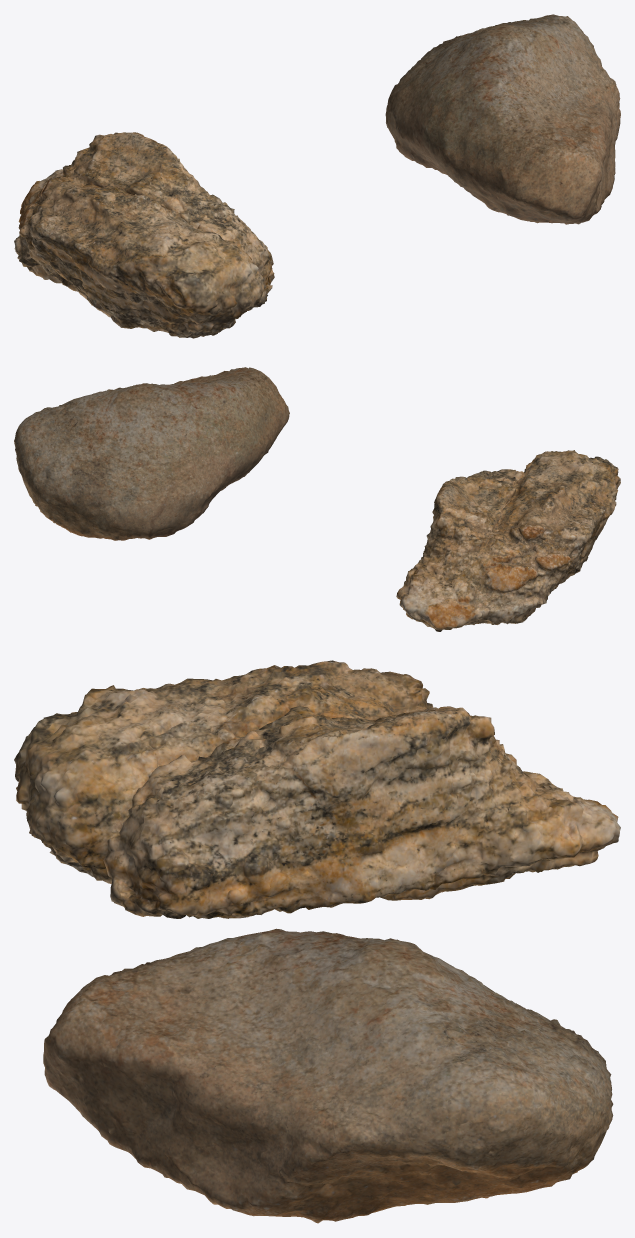
Rendered from namaqualand_boulders_01_2k.gltf.
3 renders of one model, top to bottom at view 1: azimuth 30°, elevation 25°; view 2: azimuth 150°, elevation 25°; view 3: azimuth 270°, elevation 25°, orthographic. The views are drawn at different scales.
Visible parts, largest first — view 1: namaqualand_rocks_01_a, namaqualand_rocks_01_b; view 2: namaqualand_rocks_01_a, namaqualand_rocks_01_b; view 3: namaqualand_rocks_01_a, namaqualand_rocks_01_b.
Boxes of the visible parts, <box> form: namaqualand_rocks_01_a: <box>385,14,620,224</box>; namaqualand_rocks_01_b: <box>14,132,274,338</box>; namaqualand_rocks_01_a: <box>14,367,289,540</box>; namaqualand_rocks_01_b: <box>396,450,620,631</box>; namaqualand_rocks_01_a: <box>43,928,613,1223</box>; namaqualand_rocks_01_b: <box>14,660,620,918</box>.
Size of the model in its own units: 1.06 by 0.2516 by 0.5866.
Materials: 1 (1 with a texture image).
